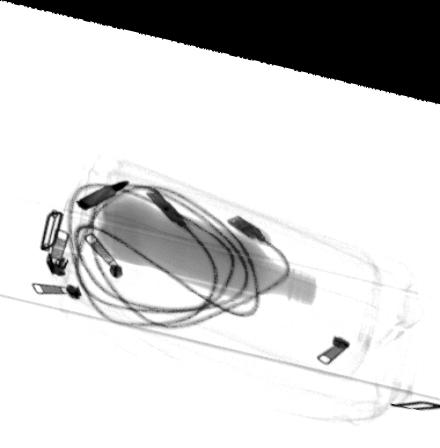Bullet: (75, 175, 131, 208)
